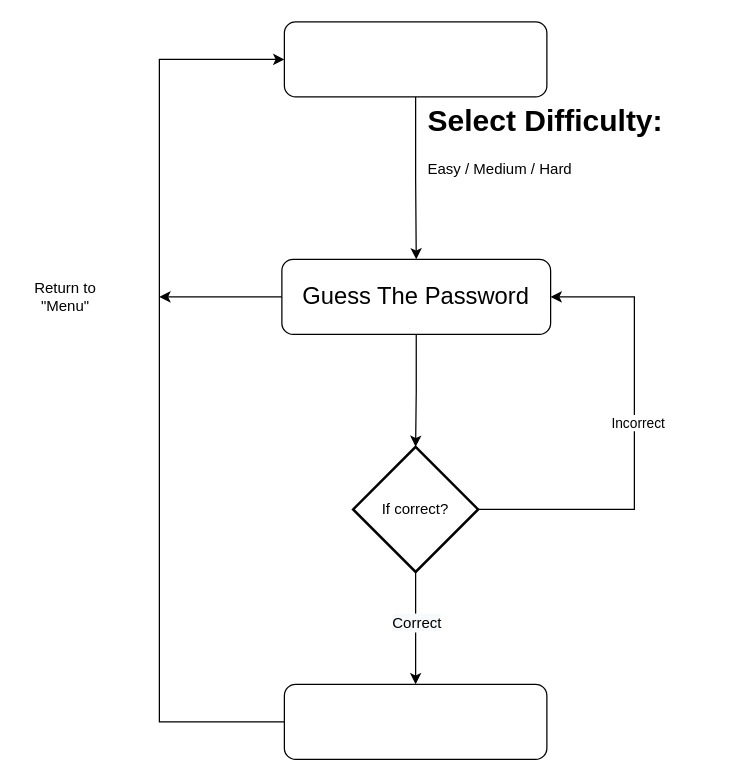
This 730x781 diagram has some shape labels left out. The shapes that lost their labels are listed below. From the top down, each one's box as (x1, y1, x2, y2) in pixels, then its label:
(283, 21, 547, 97): Main Menu
(283, 683, 547, 759): Win Screen
